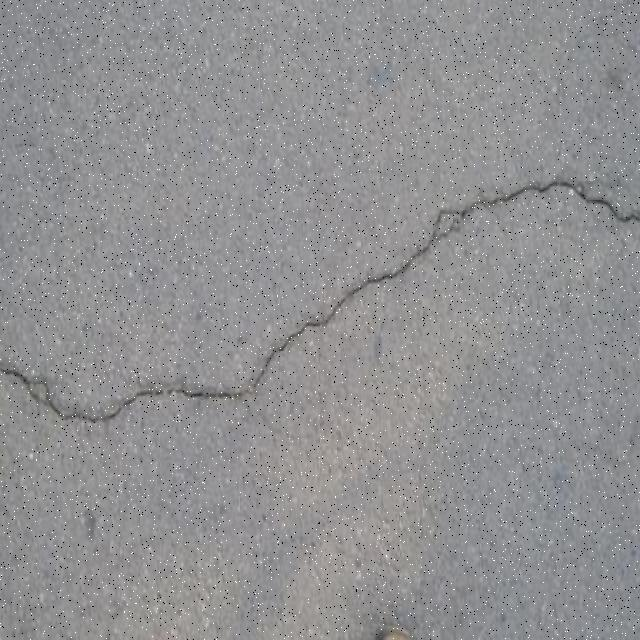minor crack: (244, 314, 342, 382)
moderate crack: (80, 378, 254, 414)
severe crack: (445, 176, 624, 232), (436, 214, 468, 239), (368, 266, 400, 286)
